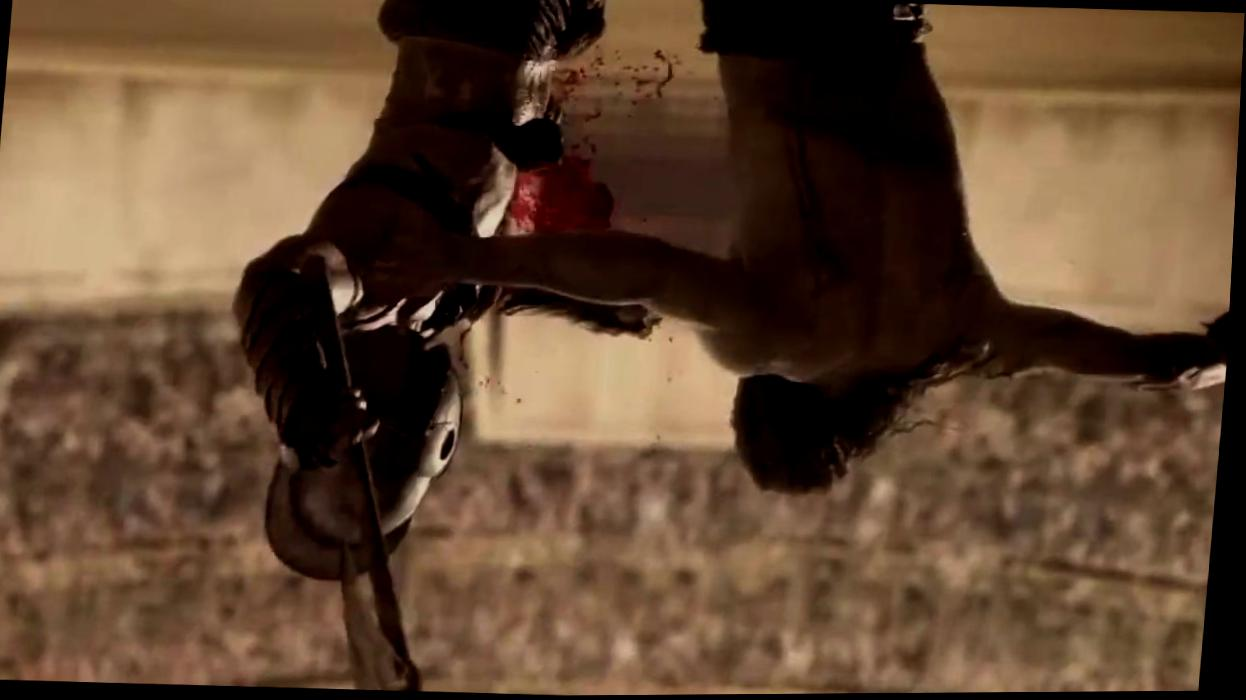Fire: (504, 47, 613, 234), (622, 50, 681, 100)
